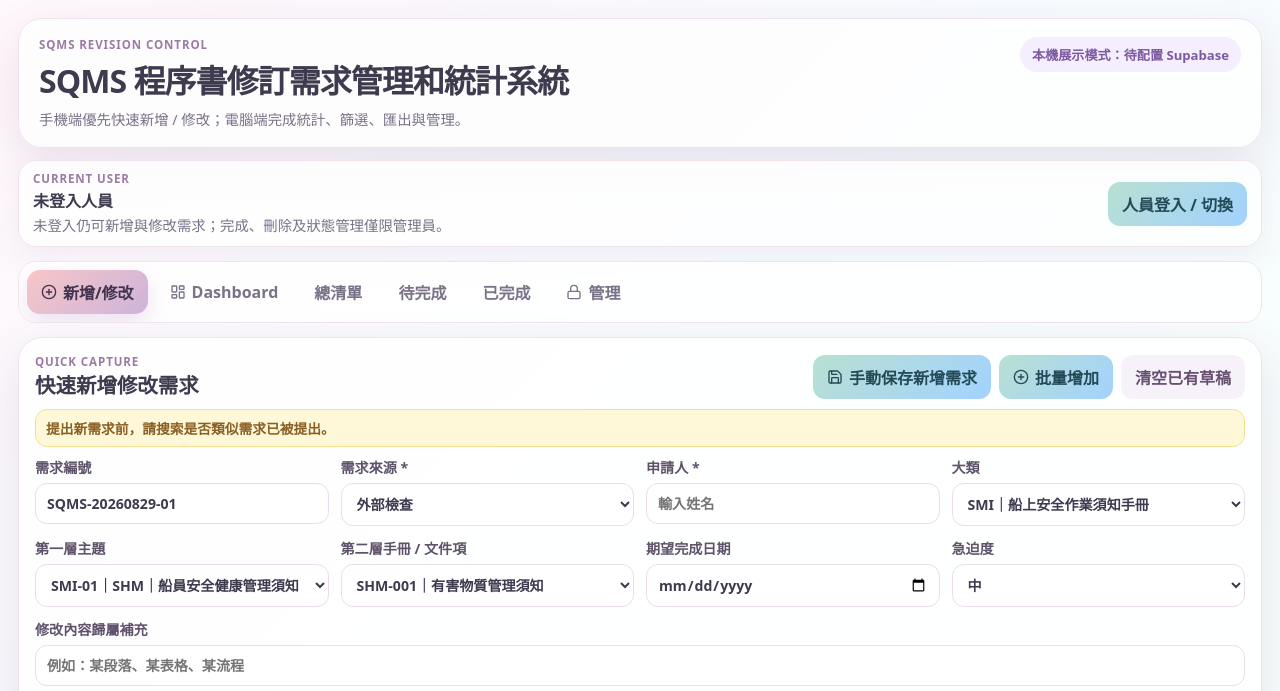
Test: request manual save flow › shows Owner identity in Current User and prevents layered personnel login
Click the button "管理" at (593, 292), box top-left (552, 270), bottom-right (634, 314)
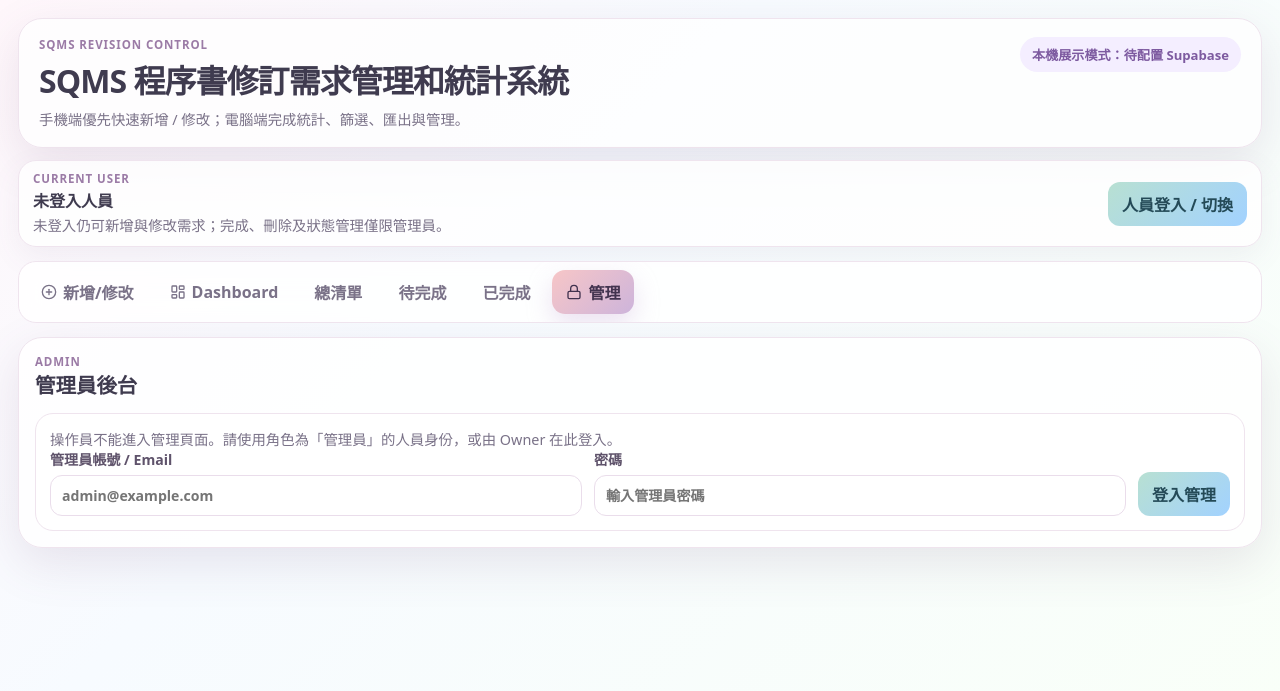
Type "owner@example.com" into the field labelled "管理員帳號 / Email" at (316, 496), box top-left (50, 475), bottom-right (582, 516)
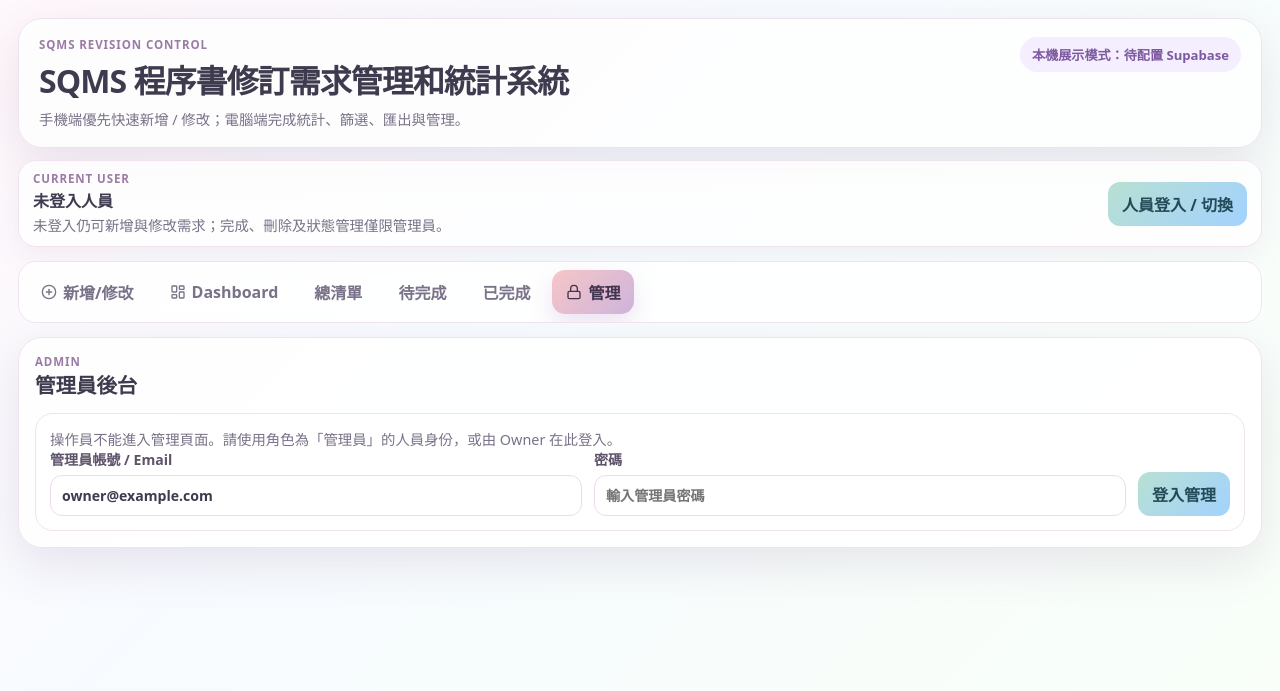
Type "SQMS-ADMIN" into the password field labelled "密碼" at (860, 496), box top-left (594, 475), bottom-right (1126, 516)
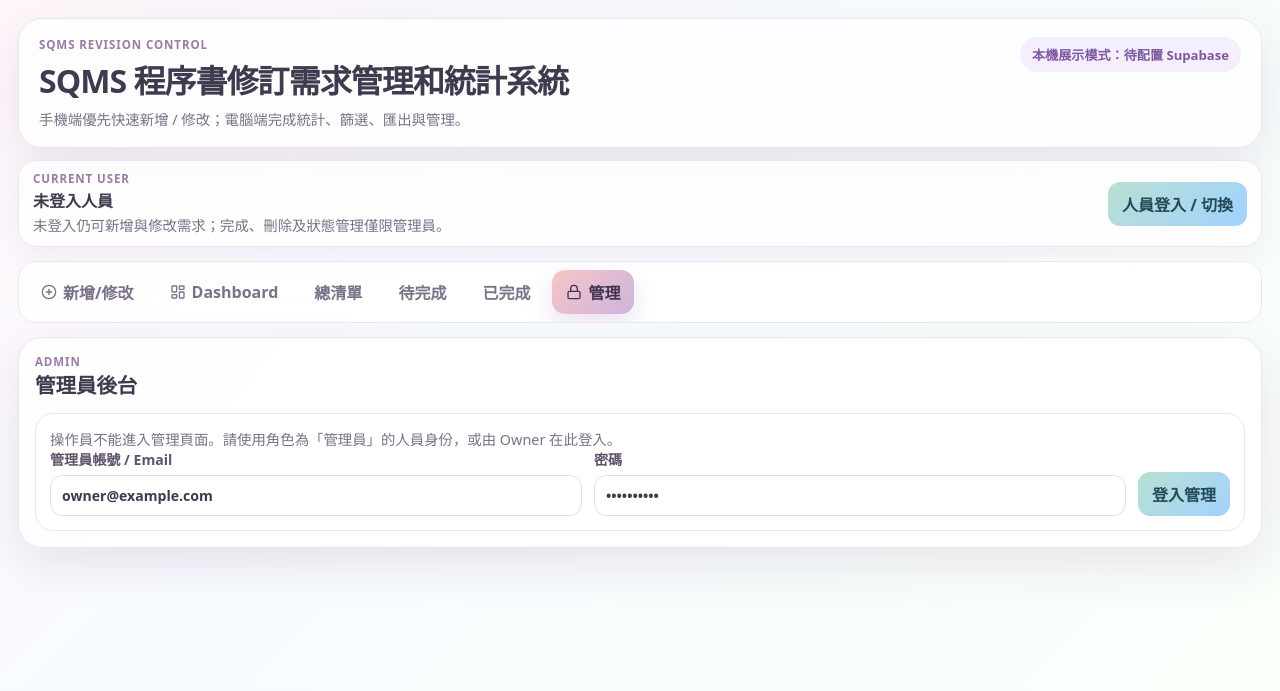
Click the button "登入管理" at (1184, 494), box top-left (1138, 472), bottom-right (1230, 516)
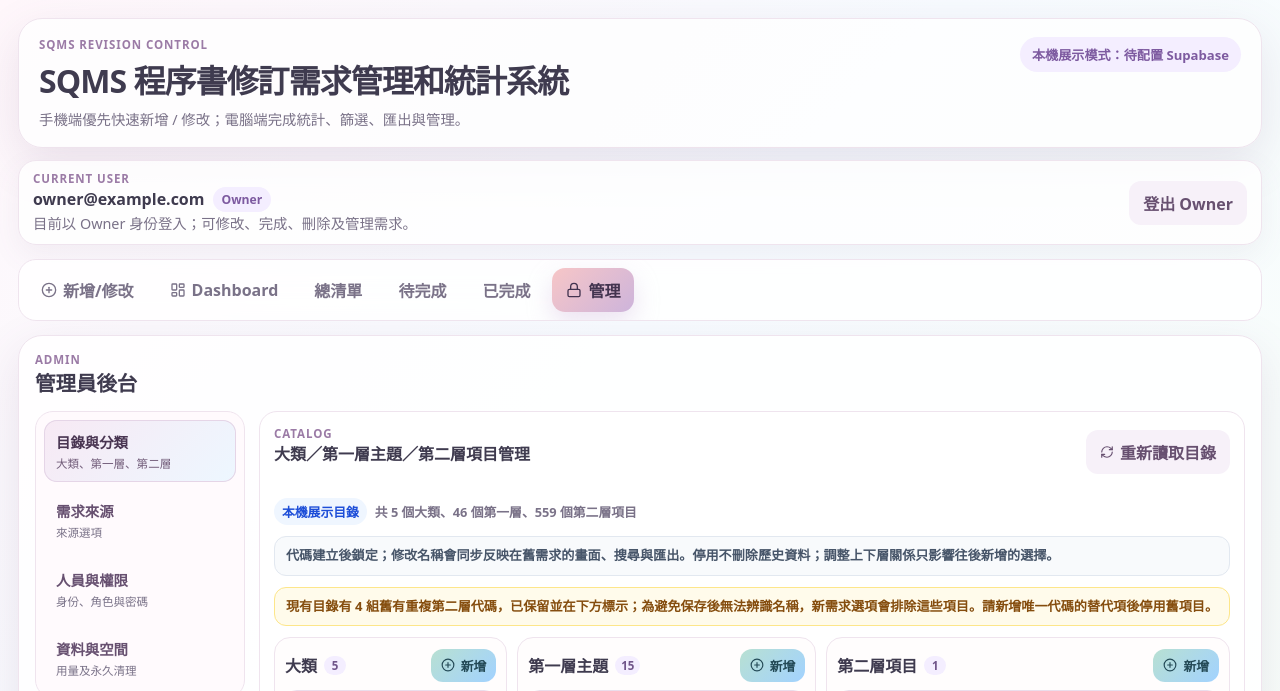
Expected: the text "owner@example.com" is shown, top-left (33, 188), bottom-right (204, 210)
Expected: the text "Owner" is shown, top-left (212, 186), bottom-right (271, 212)
Expected: the text "未登入人員" is gone
Click the button "登出 Owner" at (1188, 202), box top-left (1129, 180), bottom-right (1247, 224)
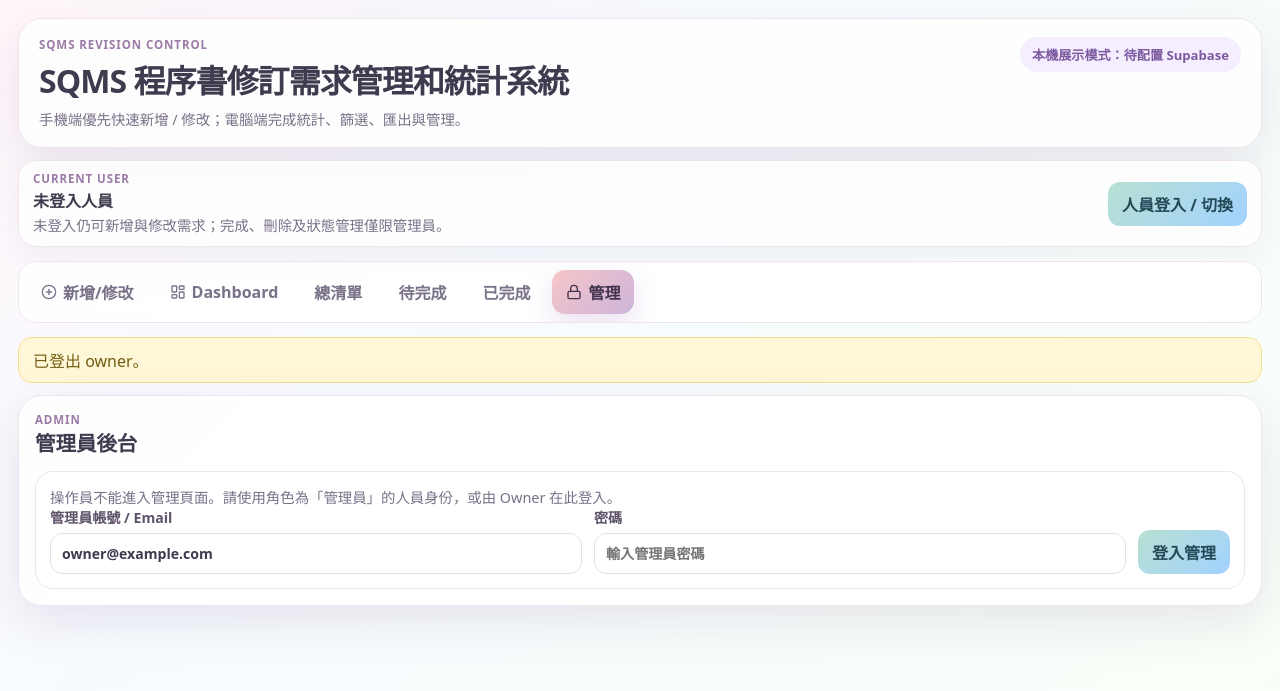
Expected: the button "人員登入 / 切換" is enabled, top-left (1108, 182), bottom-right (1247, 226)
Expected: the text "未登入人員" is shown, top-left (33, 190), bottom-right (113, 212)
